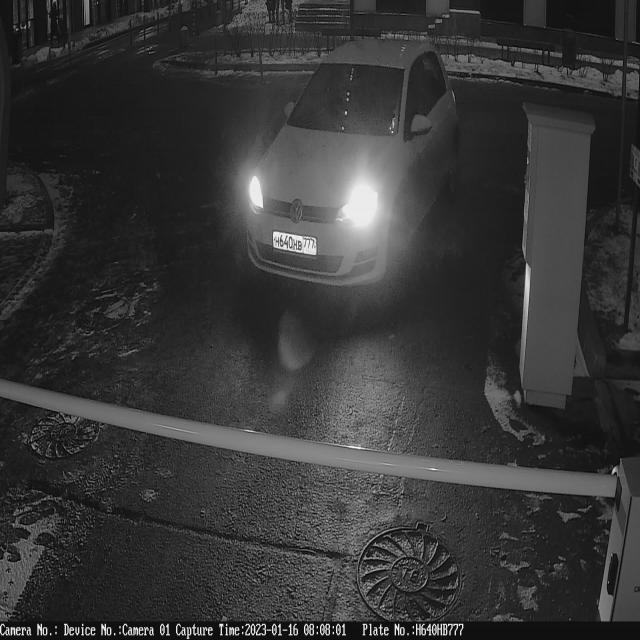car-plate-numbers: (271, 227, 319, 258)
